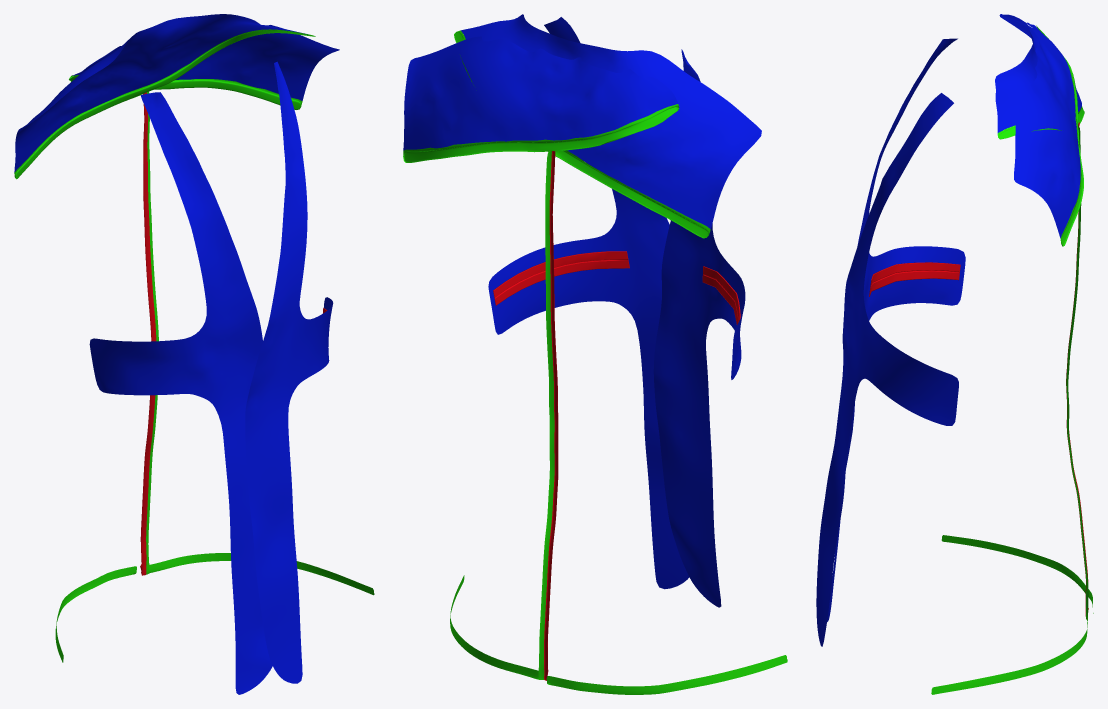
File: unlined_centre_vent.glb
3 renders of one model, left to right at view 1: azimuth 30°, elevation 25°; view 2: azimuth 150°, elevation 25°; view 3: azimuth 270°, elevation 25°, orthographic. The views are drawn at different scales.
Parts seen in each view (by area): view 1: sceondary_01, tertiary_01, primary_01; view 2: sceondary_01, tertiary_01, primary_01; view 3: sceondary_01, tertiary_01, primary_01.
Boxes of the visible parts, bbox=[...] form: sceondary_01: bbox=[14, 14, 339, 694]; tertiary_01: bbox=[14, 29, 374, 662]; primary_01: bbox=[140, 92, 327, 575]; sceondary_01: bbox=[403, 14, 761, 607]; tertiary_01: bbox=[403, 30, 787, 694]; primary_01: bbox=[493, 151, 740, 680]; sceondary_01: bbox=[816, 14, 1081, 646]; tertiary_01: bbox=[931, 25, 1093, 694]; primary_01: bbox=[869, 122, 1088, 618].
Bounding box in the file's own units: 41.21 × 72.64 × 30.59.
